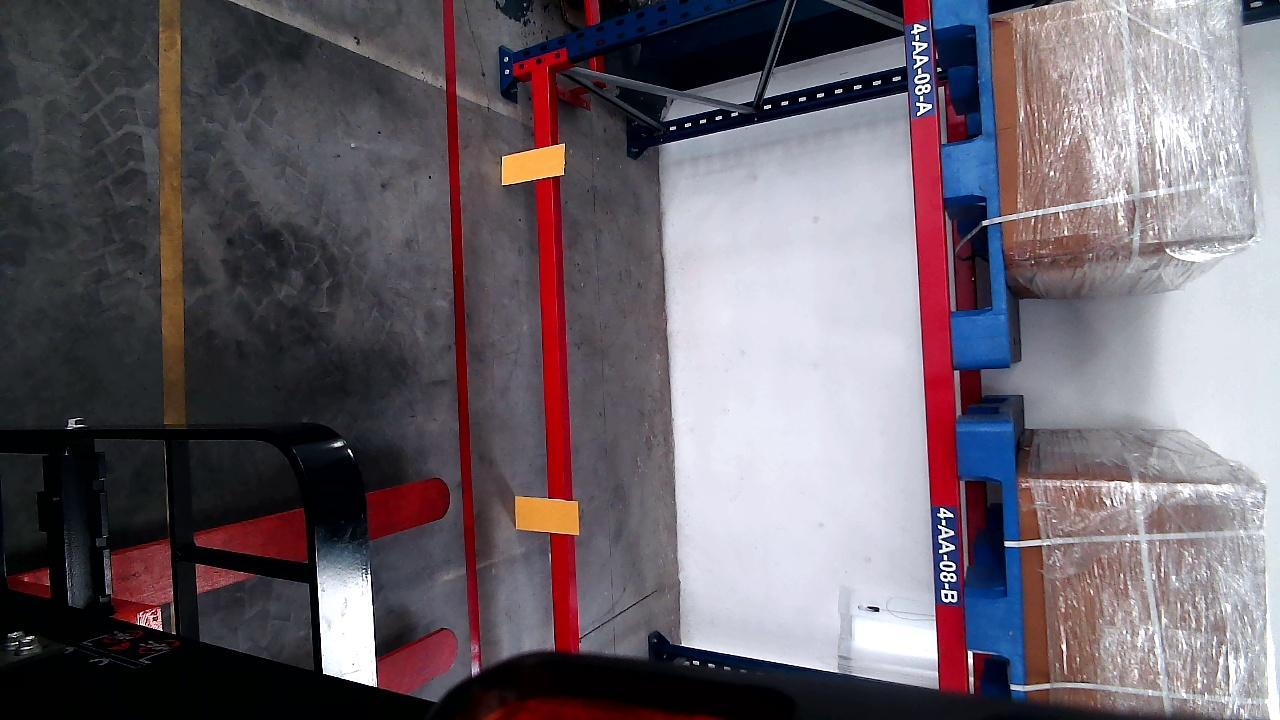red_line: (446, 4, 485, 672)
yellow_line: (158, 0, 187, 422)
